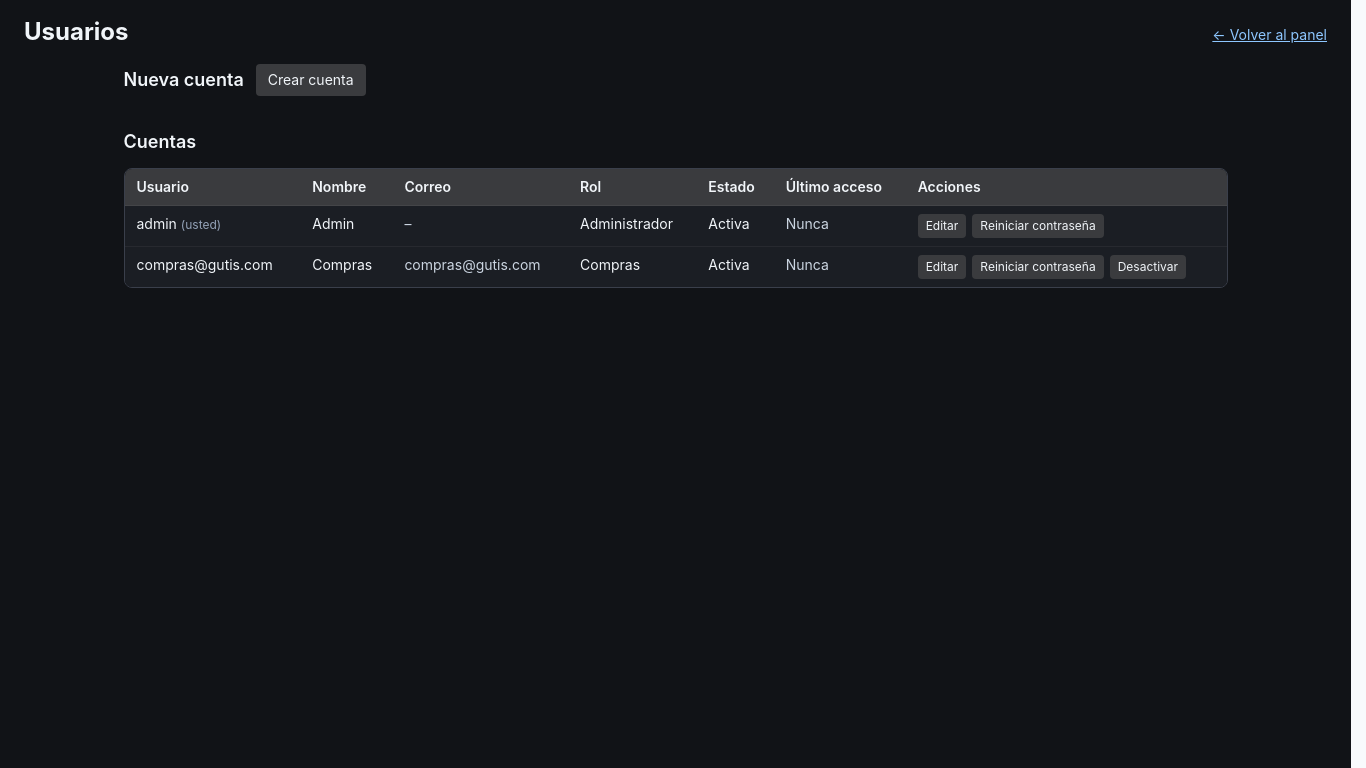
Usuarios (US-62) › un usuario repetido muestra el motivo del backend
Click the button "Crear cuenta".
click(311, 80)  # box [256,64,366,96]
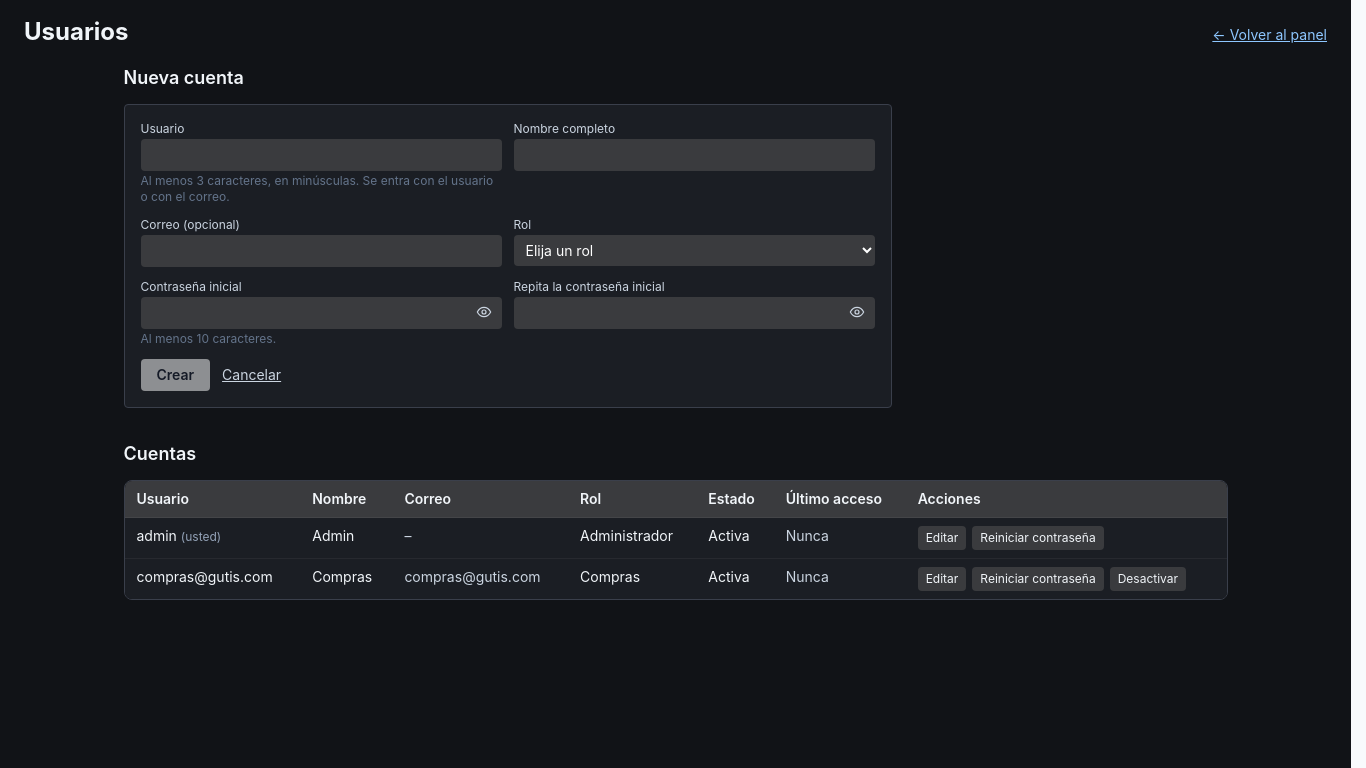
Type "planif" into the field labelled "Usuario".
click(321, 155); type("planif")  # box [140,139,502,171]
Type "Planificación" into the field labelled "Nombre completo".
click(694, 155); type("Planificación")  # box [514,139,874,171]
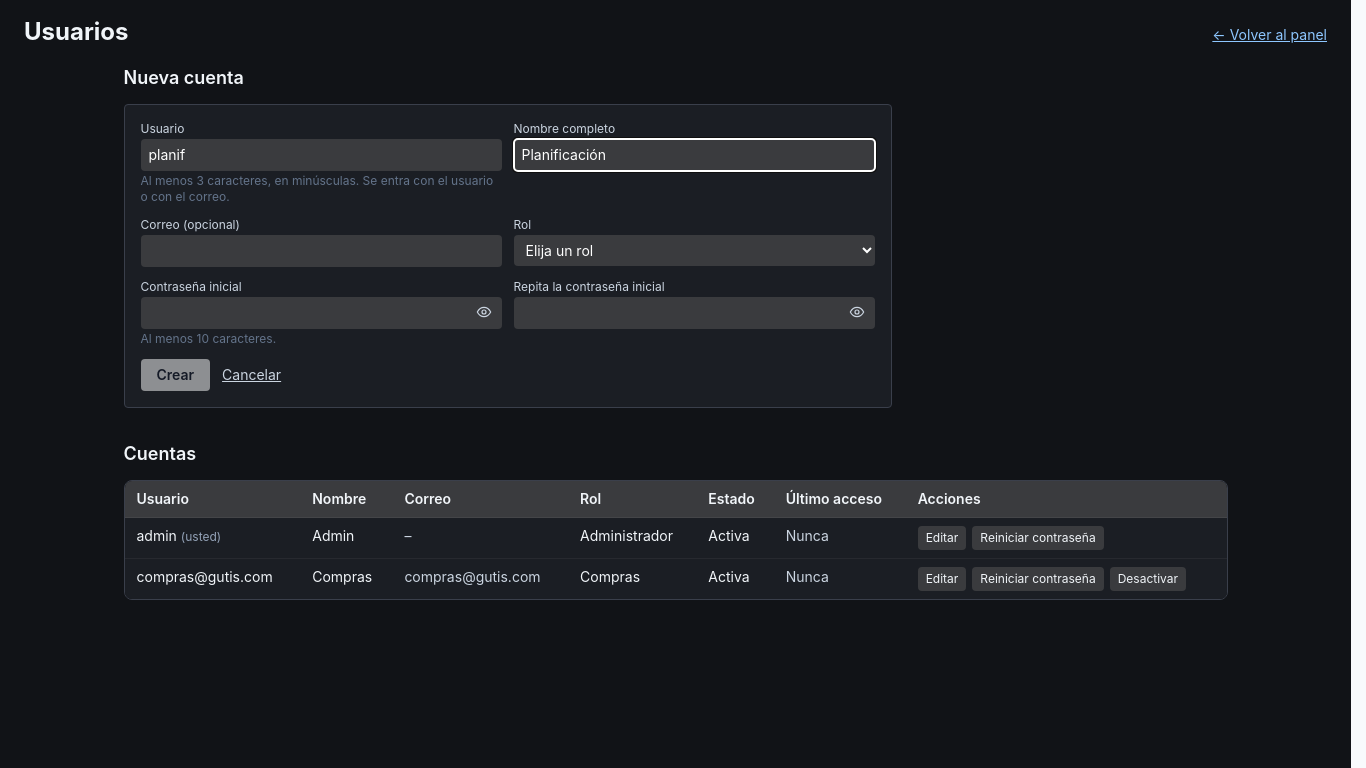
Select "Planificación" in the dropdown at (694, 250), box [514,235,874,266]
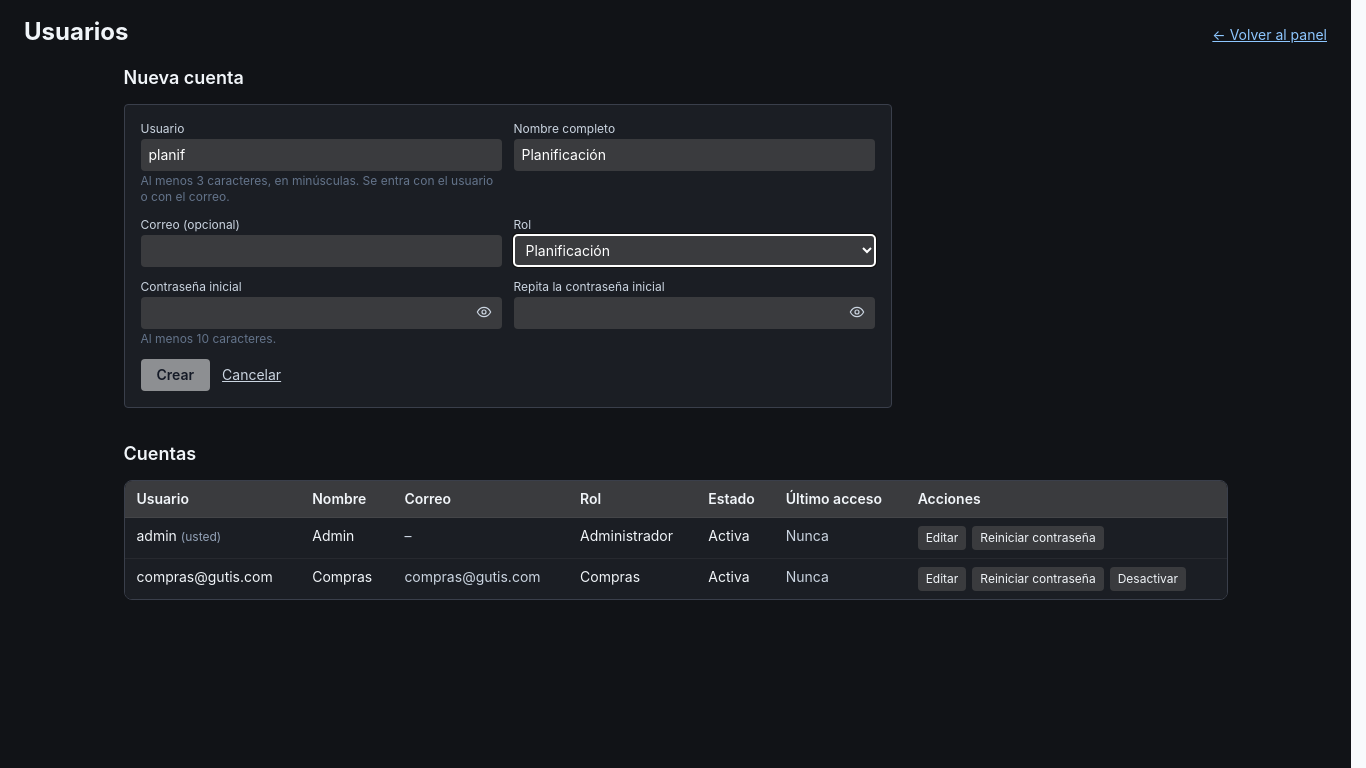
Type "una-clave-larga" into the password field labelled "Contraseña inicial Al menos 10 caracteres.".
click(321, 313); type("una-clave-larga")  # box [140,297,502,329]
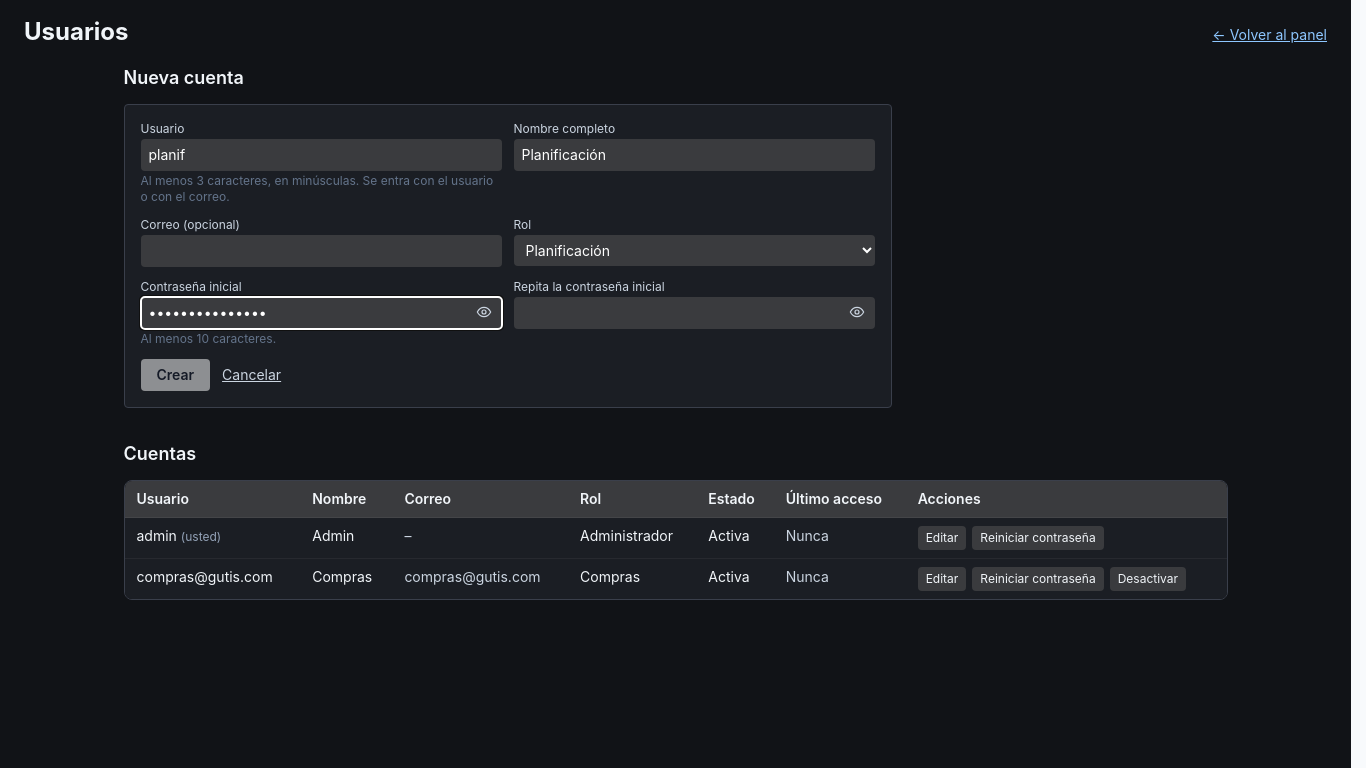
Type "una-clave-larga" into the password field labelled "Repita la contraseña inicial".
click(694, 313); type("una-clave-larga")  # box [514,297,874,329]
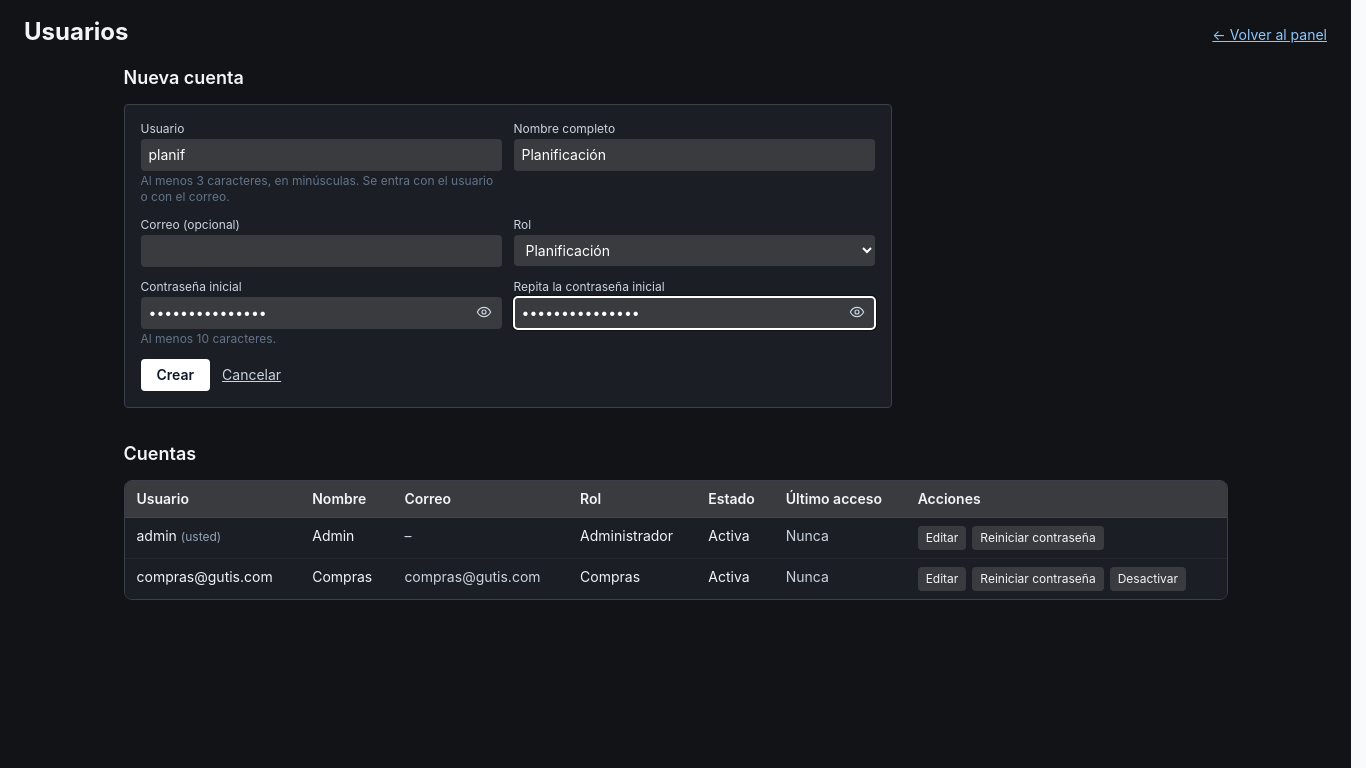
Click the button "Crear".
click(175, 375)  # box [140,359,210,391]
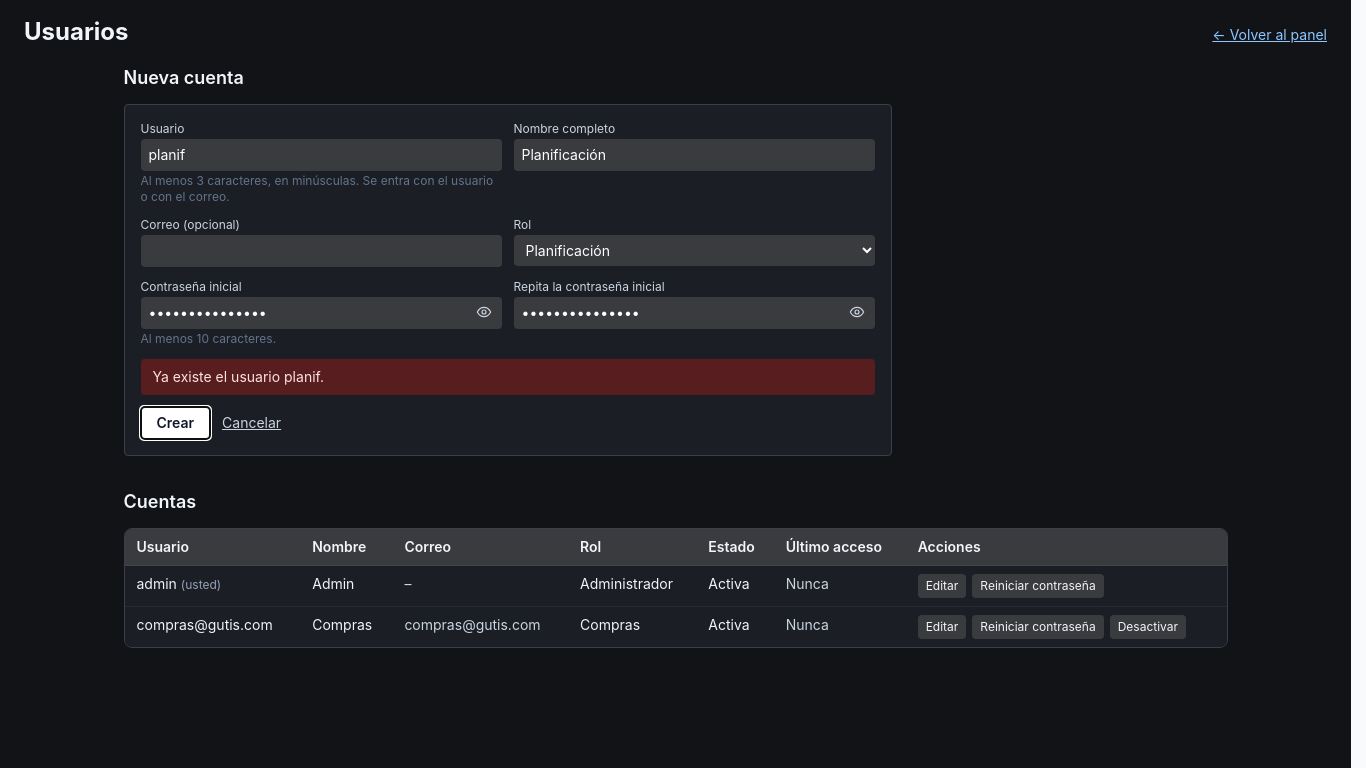
Expected: the message reads "Ya existe el usuario planif.", [152,368,324,385]
